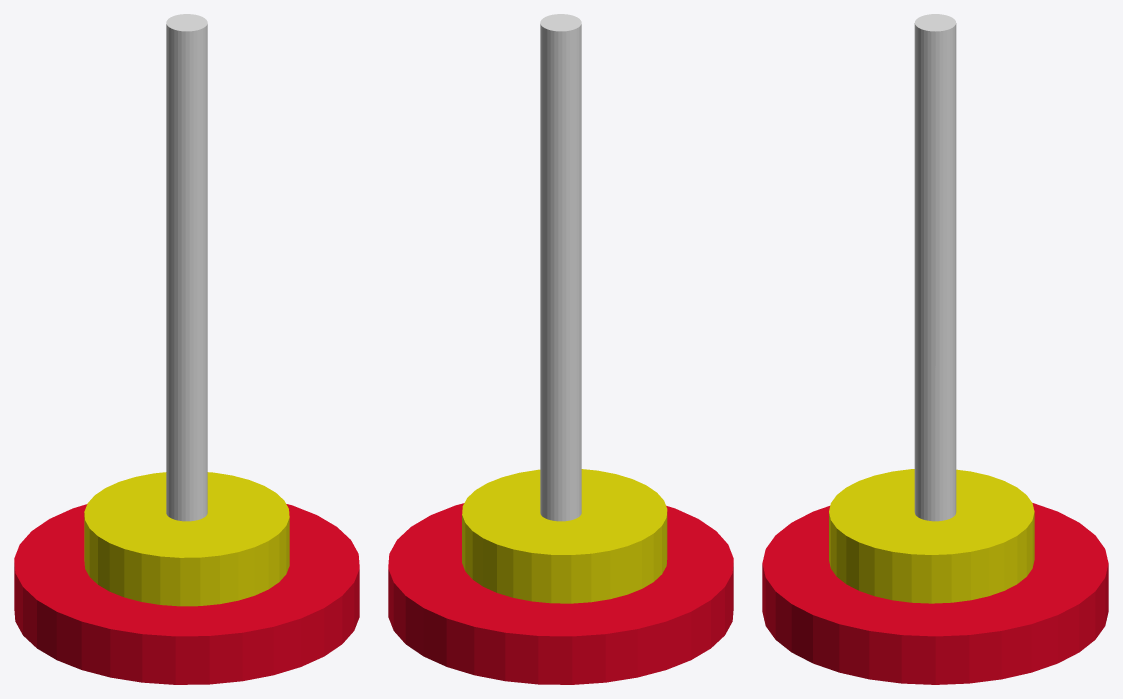
Rendered from Towers of Hanoi 2 ring second fourth.fbx.
3 renders of one model, left to right at view 1: azimuth 30°, elevation 25°; view 2: azimuth 150°, elevation 25°; view 3: azimuth 270°, elevation 25°, orthographic.
Parts seen in each view (by area): view 1: Cylinder.001, Cylinder.003, Cylinder; view 2: Cylinder.001, Cylinder.003, Cylinder; view 3: Cylinder.001, Cylinder.003, Cylinder.
Part boxes in pixels (x1,y1,x2,y2): Cylinder.001: (14,504,359,684); Cylinder.003: (84,472,289,606); Cylinder: (166,14,207,521); Cylinder.001: (388,503,733,684); Cylinder.003: (462,469,667,603); Cylinder: (540,14,581,521); Cylinder.001: (762,503,1108,684); Cylinder.003: (829,469,1034,603); Cylinder: (914,14,956,521).
Bounding box in the file's own units: 270 × 506 × 270.
